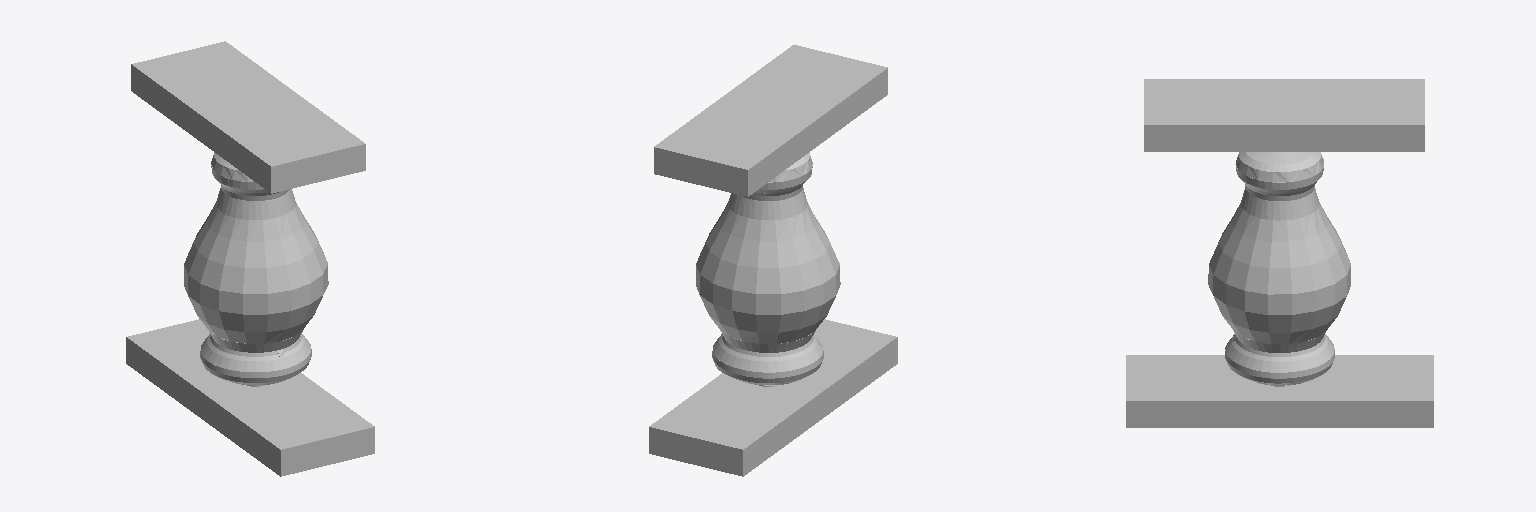
The model's file is Atrium_Singlepillar.obj.
3 renders of one model, left to right at view 1: azimuth 30°, elevation 25°; view 2: azimuth 150°, elevation 25°; view 3: azimuth 270°, elevation 25°, orthographic.
Parts seen in each view (by area): view 1: SoloPillar8; view 2: SoloPillar8; view 3: SoloPillar8.
Part boxes in pixels (x1,y1,x2,y2): SoloPillar8: (126,41,374,476); SoloPillar8: (649,45,897,476); SoloPillar8: (1126,79,1433,427).
Size of the model in its own units: 42.24 by 98.21 by 90.59.